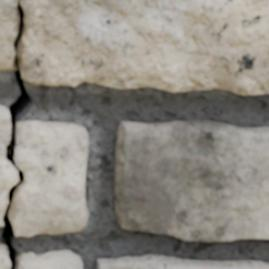brick: (115, 120, 268, 241), (97, 255, 268, 268)
broken_brick: (20, 0, 268, 96), (16, 121, 89, 238), (0, 104, 17, 227), (0, 0, 16, 73), (19, 250, 83, 268), (0, 246, 10, 268)
crack: (0, 0, 33, 268)
